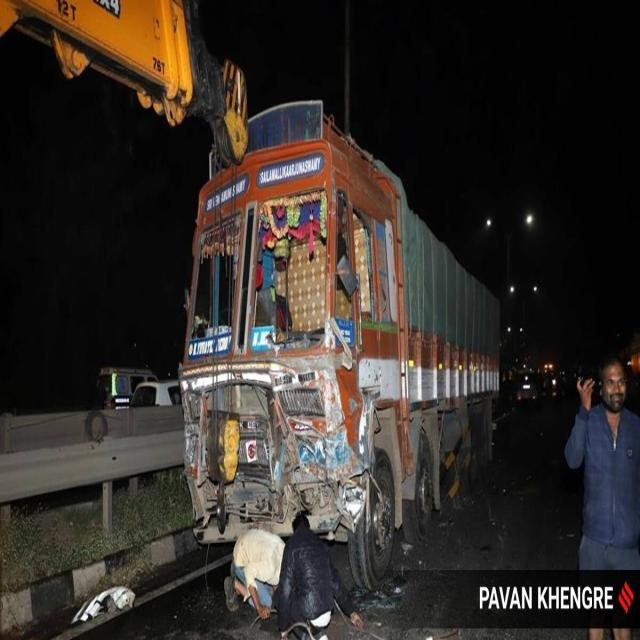accident: (180, 101, 500, 589)
